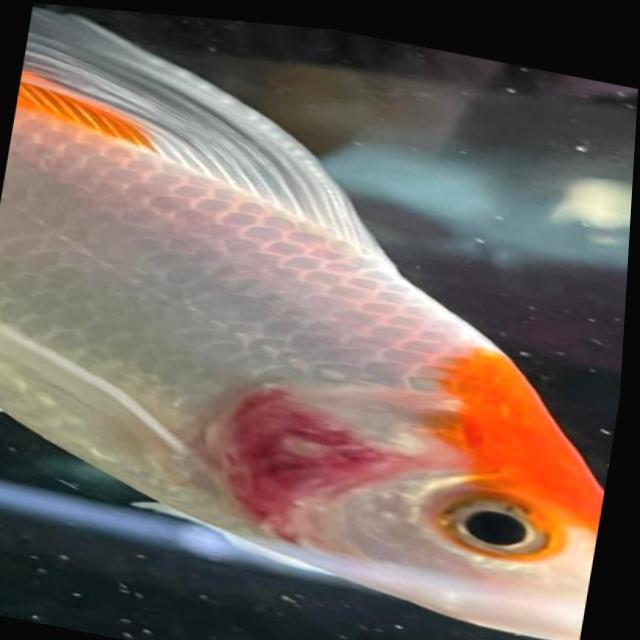Gill Disease: (86, 237, 586, 632)
